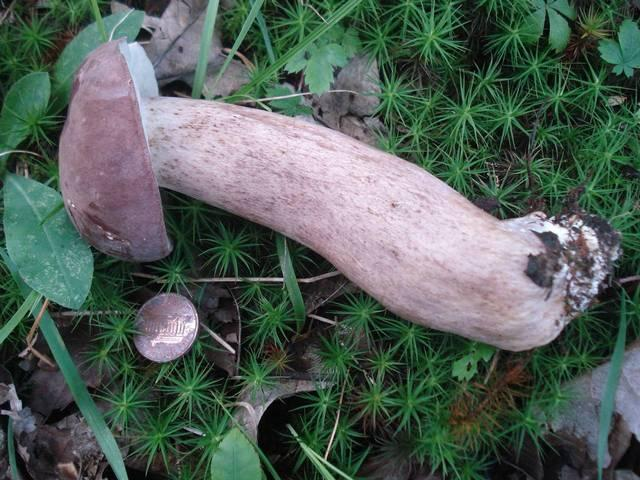Non-edible Mushroom: (56, 35, 623, 353)
